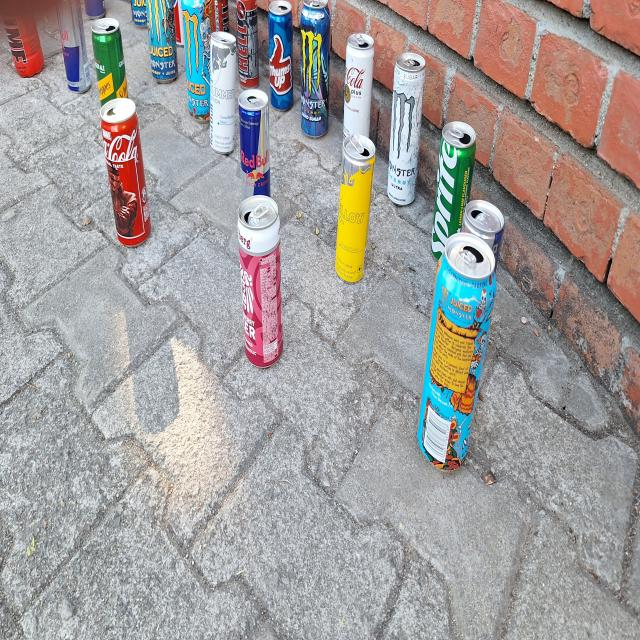Coca Cola - Marvel: (100, 100, 153, 247)
Coca Cola Plus: (341, 33, 375, 139)
Coolberg: (234, 192, 288, 369)
Hell Apple: (235, 0, 261, 87)
Hell Classic: (212, 0, 230, 31)
Monster Aussie Lemonade: (144, 0, 178, 83), (132, 0, 146, 25)
Monster LH44: (298, 0, 330, 136)
Monster Mango Loco: (414, 250, 499, 471), (180, 0, 208, 122)
Prime -Shitass-: (5, 13, 45, 72)
Redbul: (235, 92, 276, 190), (54, 0, 90, 90)
Redbull Summer Edition: (209, 35, 238, 154)
Redbull Yellow Edition: (332, 142, 375, 280), (334, 135, 334, 140)
Schweppes: (92, 21, 132, 97)
Sprite: (432, 129, 479, 244)
Thums Up: (266, 0, 296, 111)
White Monster: (384, 55, 426, 208)
